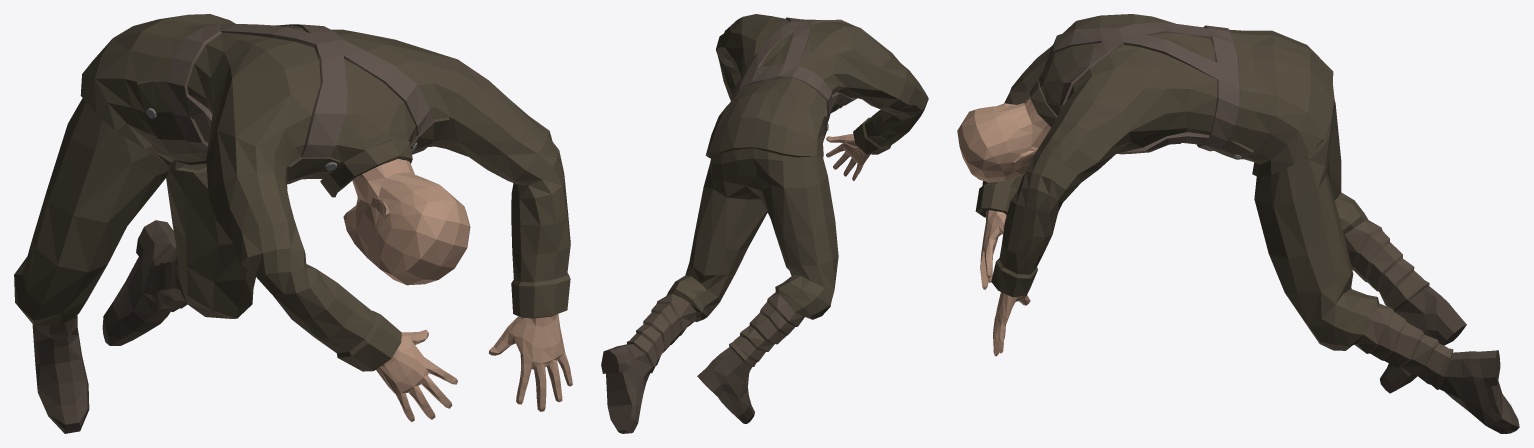
The model's file is Cha_Soldier_Eng_Dead_04.fbx.
3 views of the same model, side by side, from view 1: azimuth 30°, elevation 25°; view 2: azimuth 150°, elevation 25°; view 3: azimuth 270°, elevation 25° (orthographic). The views are drawn at different scales.
Visible parts, largest first — view 1: Cha_Soldier_Eng_Dead_04_LOD0; view 2: Cha_Soldier_Eng_Dead_04_LOD0; view 3: Cha_Soldier_Eng_Dead_04_LOD0.
Boxes of the visible parts, <box> form: Cha_Soldier_Eng_Dead_04_LOD0: <box>14,14,572,433</box>; Cha_Soldier_Eng_Dead_04_LOD0: <box>601,14,928,433</box>; Cha_Soldier_Eng_Dead_04_LOD0: <box>957,14,1519,433</box>.
Size of what is drawn, in the model's own units: 80.82 by 108 by 140.
